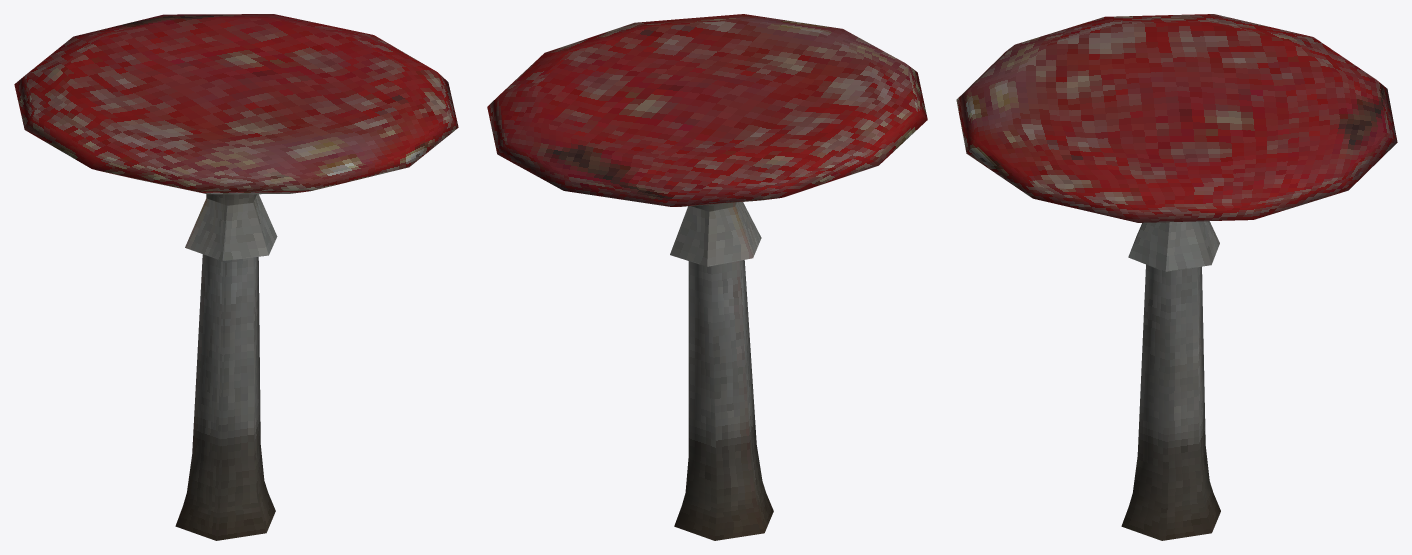
The model's file is mushroom_n_4.glb.
3 renders of one model, left to right at view 1: azimuth 30°, elevation 25°; view 2: azimuth 150°, elevation 25°; view 3: azimuth 270°, elevation 25°, orthographic.
Visible parts, largest first — view 1: mushroom_n_4; view 2: mushroom_n_4; view 3: mushroom_n_4.
Part boxes in pixels (x1,y1,x2,y2): mushroom_n_4: (14,14,458,540); mushroom_n_4: (487,14,927,540); mushroom_n_4: (956,14,1397,540).
Bounding box in the file's own units: 0.171 × 0.1856 × 0.1712.
Materials: 1 (1 with a texture image).
